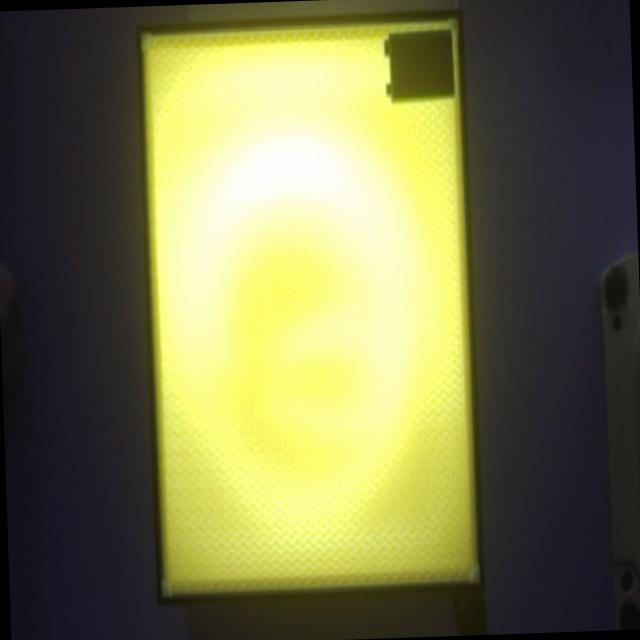bateria: (384, 31, 453, 105)
mesa: (136, 11, 485, 606)
